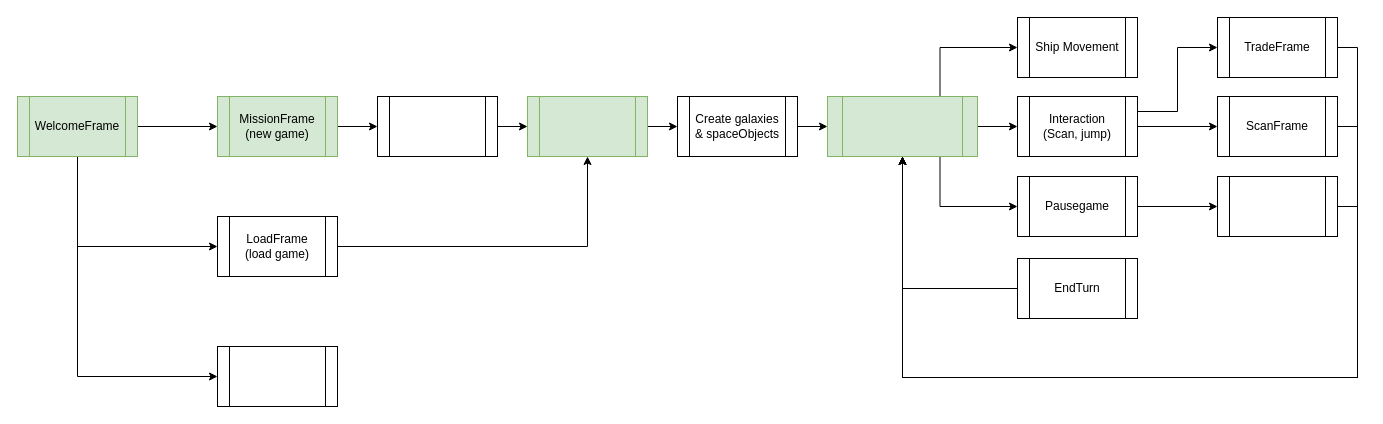
Some shapes in this 1383 by 424 pixel diagram are drawn without their labels. The shapes that lost their labels are listed below. From the top down, each one's centre as x and y in pixels, then its label:
At (437,126): "Create Crew & ship".
At (587,126): "LoadFrame".
At (902,126): "GameEnvironement".
At (1277,206): "PauseFrame".
At (277,376): "Credits".
